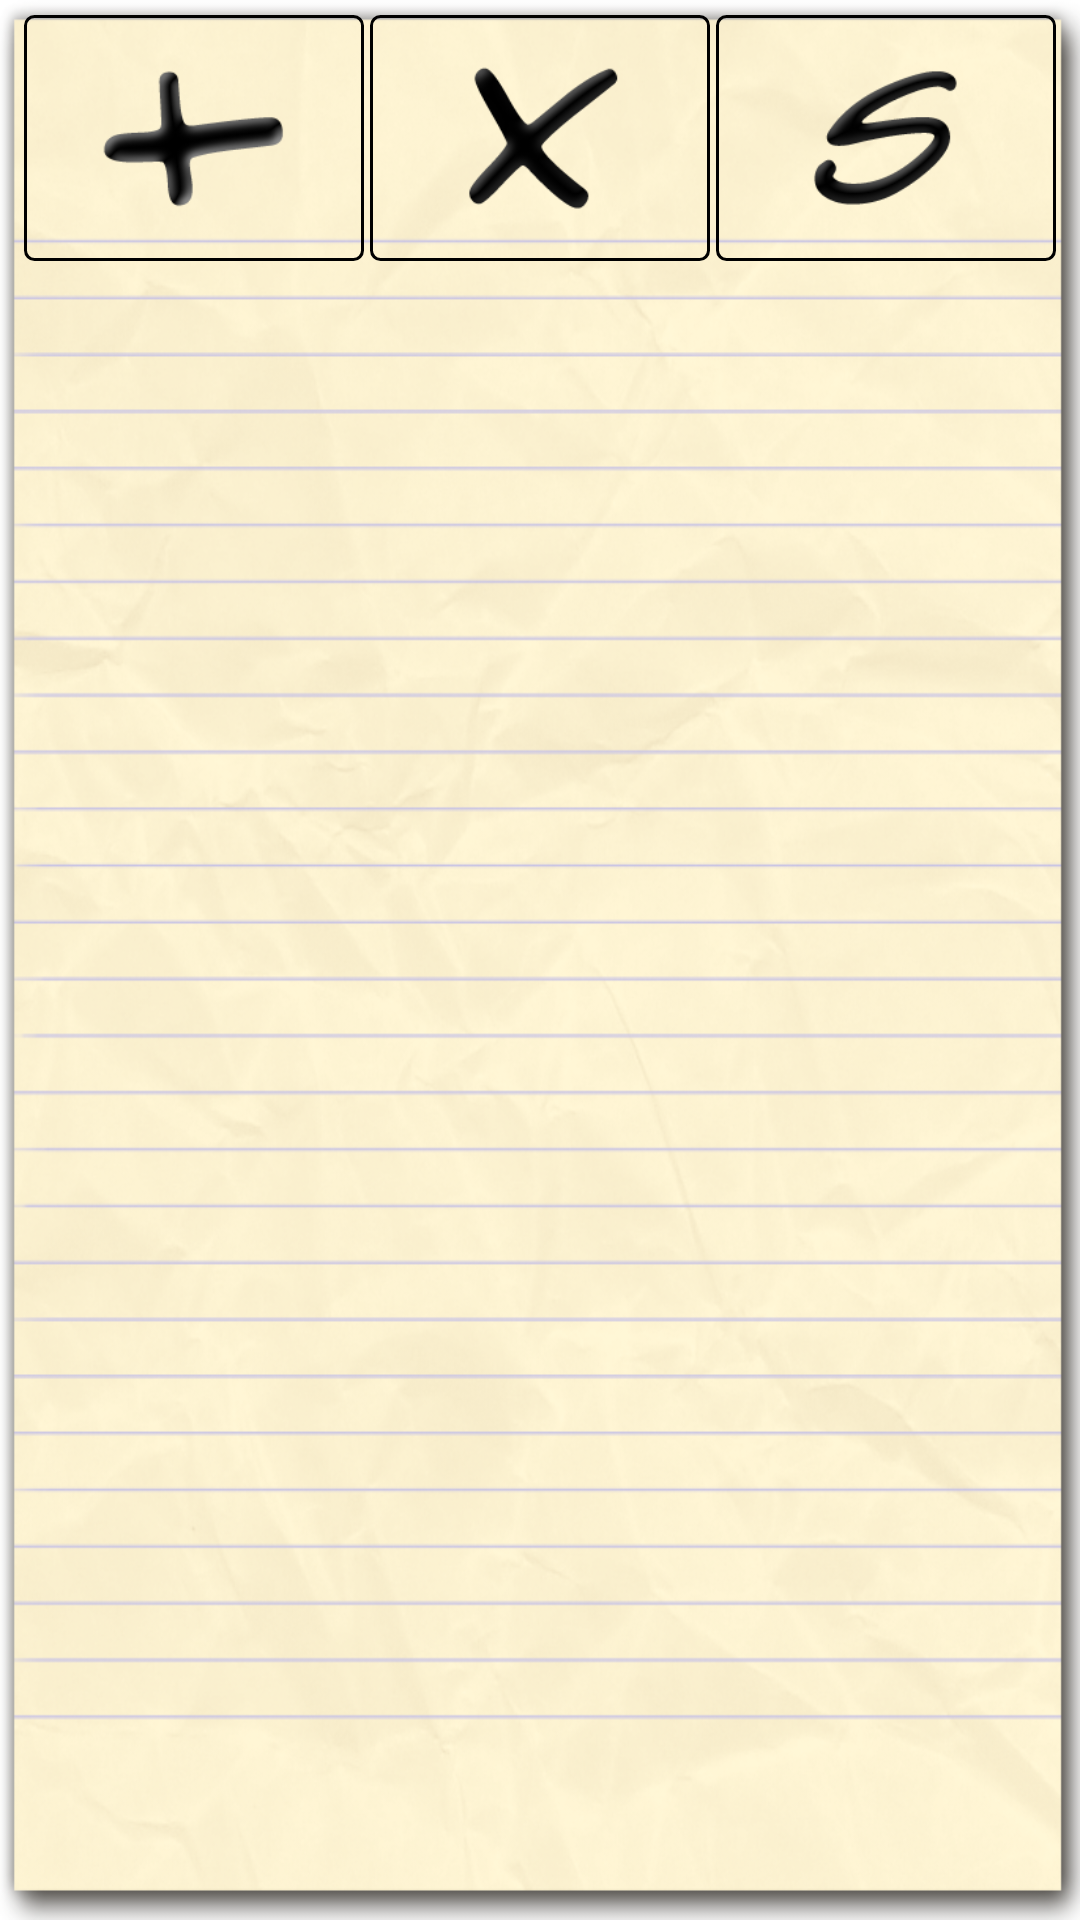

Point at icon controls on the screen. Image size 1080w x 1920h, points as point (x, y).
delete item: point (543, 138)
plus: point (193, 138)
